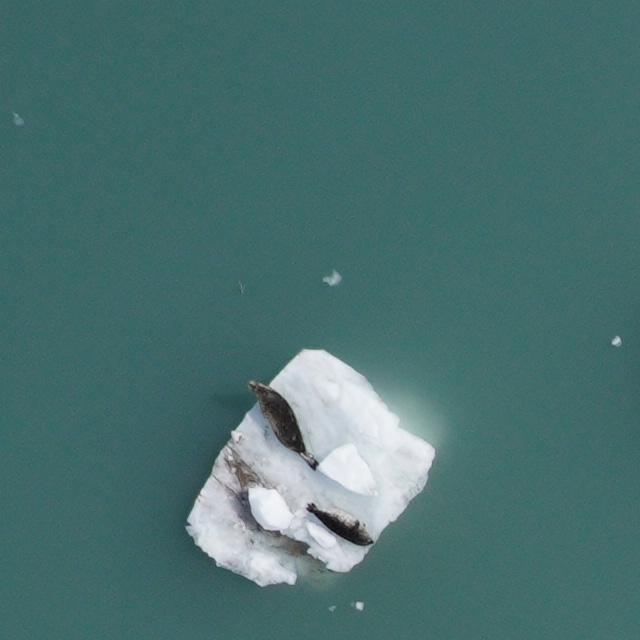seal: (244, 367, 322, 480), (298, 492, 381, 553)
